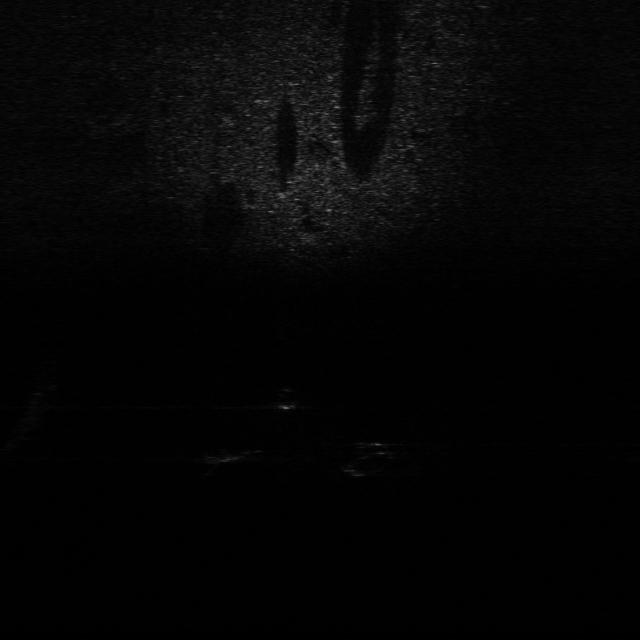ball: (272, 384, 306, 413)
square cage: (197, 433, 269, 466)
tyre: (342, 437, 401, 479)
